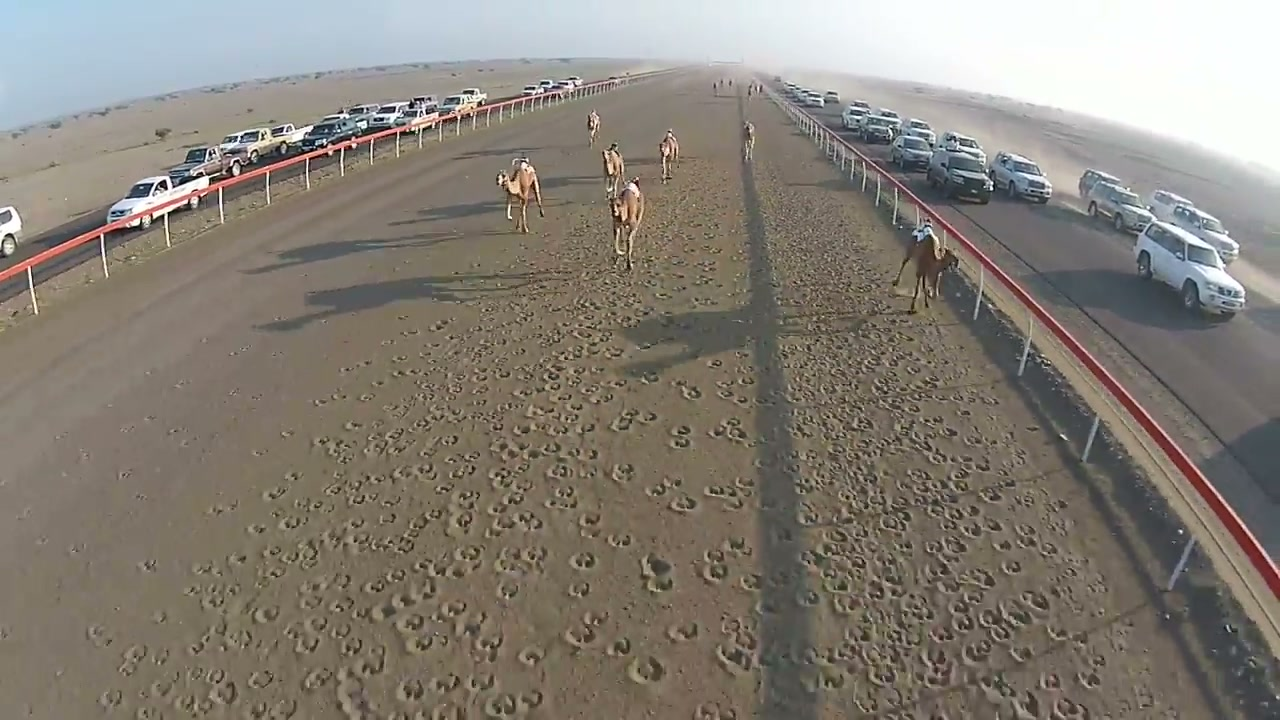animal_foot_print: (69, 105, 1210, 719), (750, 161, 1213, 716)
